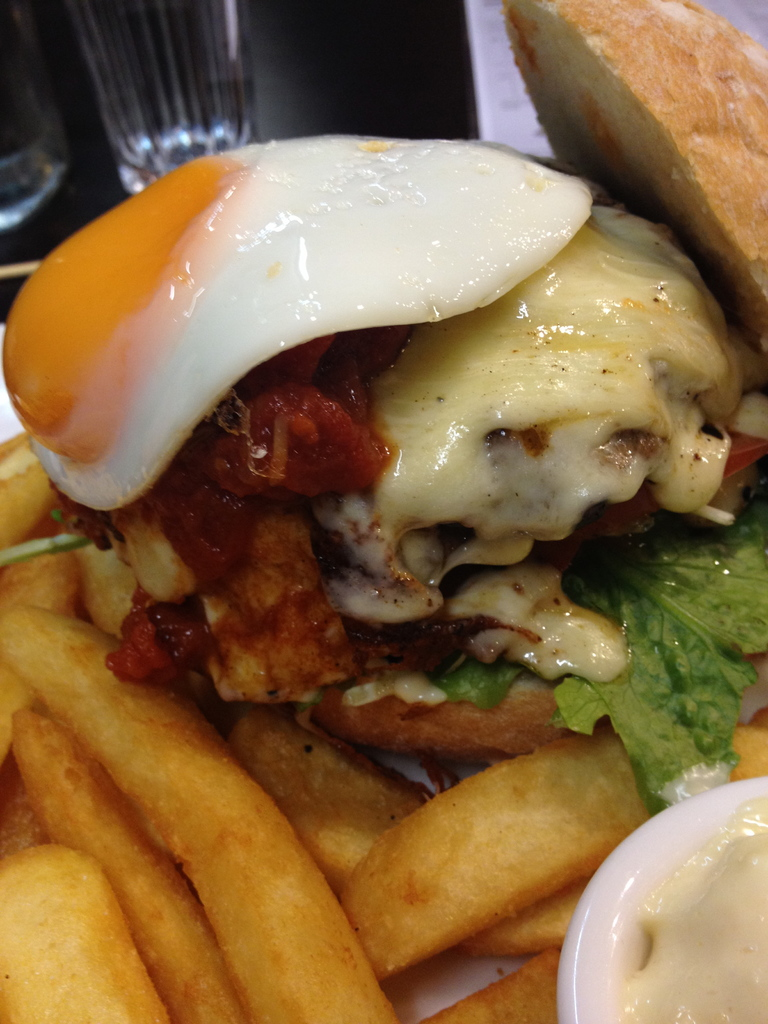French fries: (0, 417, 767, 1023)
